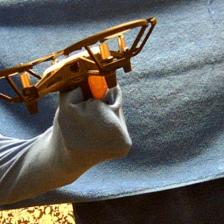drone: (1, 16, 157, 115)
